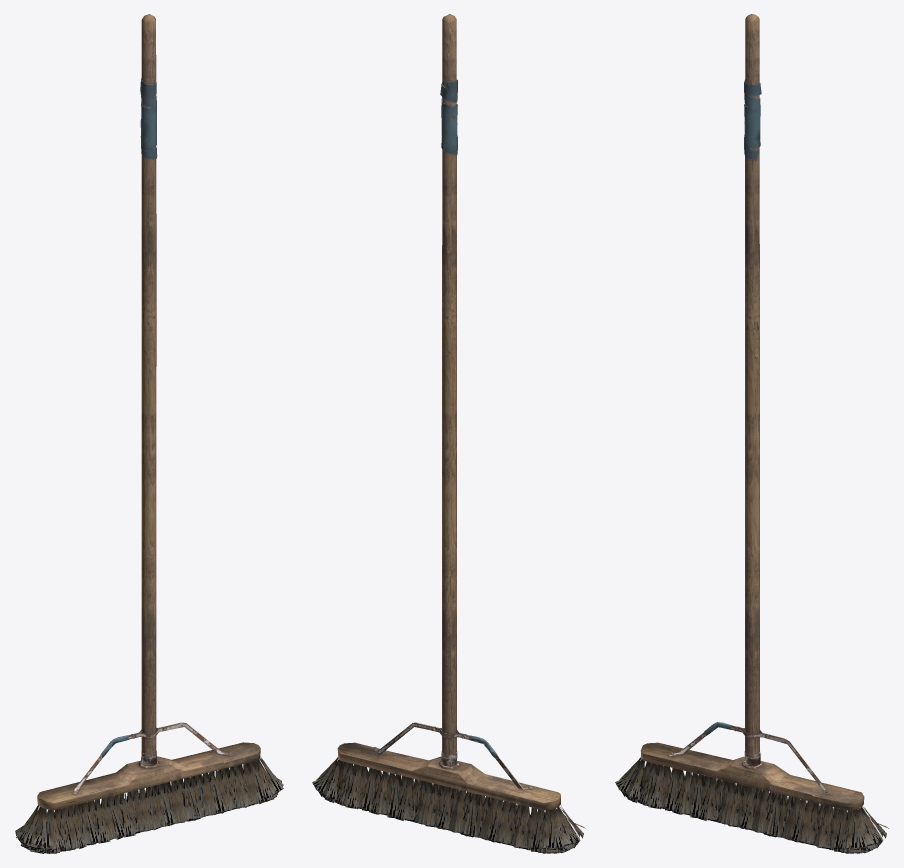
The model's file is escoba.glb.
3 views of the same model, side by side, from view 1: azimuth 30°, elevation 25°; view 2: azimuth 150°, elevation 25°; view 3: azimuth 330°, elevation 25° (orthographic).
Visible parts, largest first — view 1: wooden_broom; view 2: wooden_broom; view 3: wooden_broom.
Part boxes in pixels (x1,y1,x2,y2): wooden_broom: [15, 14, 283, 853]; wooden_broom: [312, 14, 585, 853]; wooden_broom: [615, 14, 888, 853].
Size of the model in its own units: 0.4902 by 1.45 by 0.1125.
2 materials, 2 textured.
